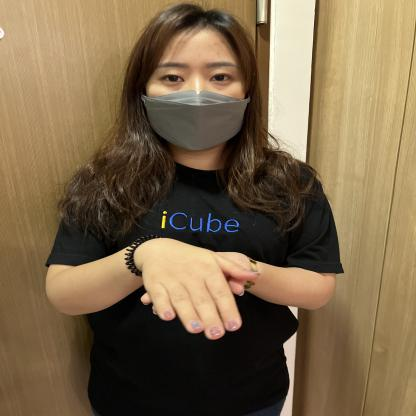Love: (65, 200, 341, 374)
